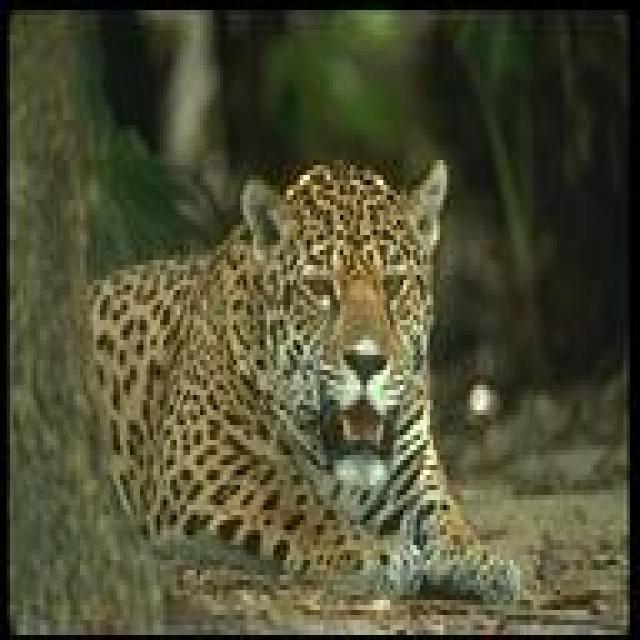Leopard: (87, 172, 522, 588)
